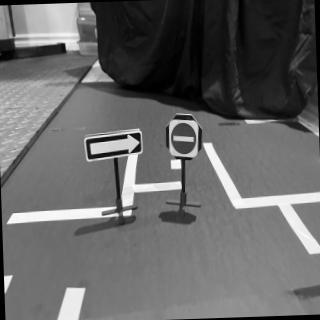sign_noentry: (170, 120, 202, 160)
sign_oneway_right: (85, 128, 145, 165)
